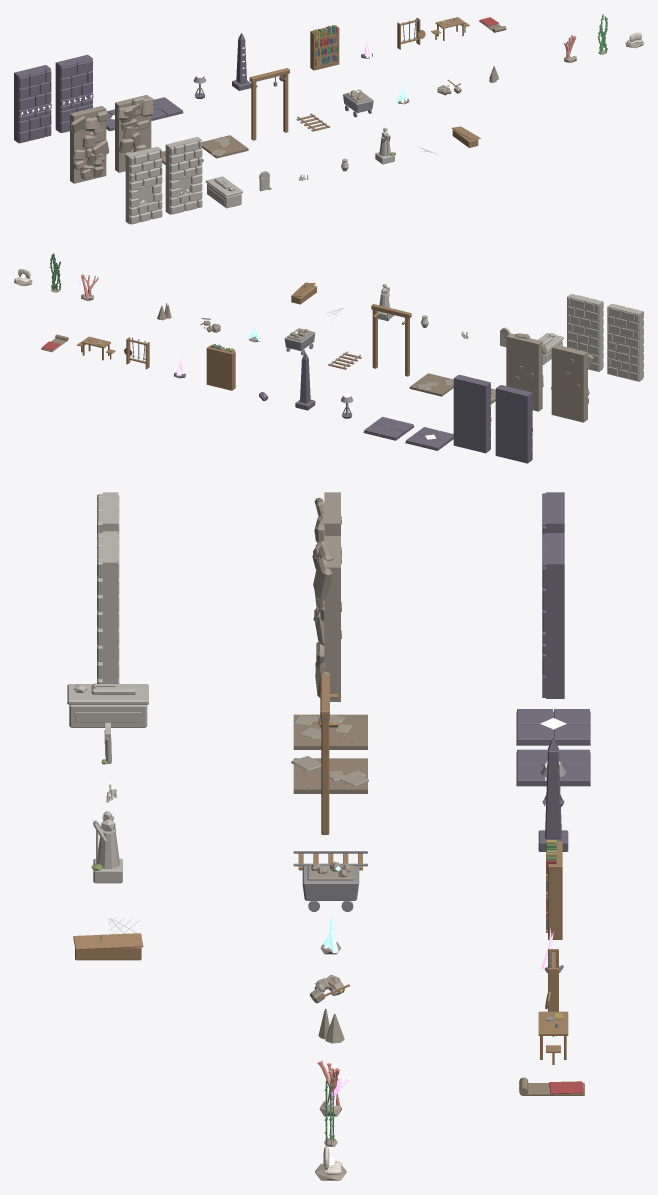
File: themes.glb
The picture shows the model from 3 angles, top to bottom: view 1: azimuth 30°, elevation 25°; view 2: azimuth 150°, elevation 25°; view 3: azimuth 270°, elevation 25°; orthographic projection. The views are drawn at different scales.
Parts seen in each view (by area): view 1: sanctum_wall_0, crypt_wall_1, crypt_wall_0, mine_wall_0, sanctum_wall_1, mine_wall_1, bookshelf, mine_support, sarcophagus, mine_floor_1, obelisk, minecart (+5 smaller); view 2: sanctum_wall_1, sanctum_wall_0, mine_wall_0, crypt_wall_0, mine_wall_1, crypt_wall_1, bookshelf, mine_support, sanctum_floor_1, sanctum_floor_0, mine_floor_1, obelisk (+6 smaller); view 3: mine_wall_1, sanctum_wall_1, sarcophagus, crypt_wall_1, sanctum_floor_0, mine_floor_1, mine_floor_0, minecart, sanctum_floor_1, coffin, obelisk, bookshelf (+6 smaller).
Part boxes in pixels (x1,y1,x2,y2): sanctum_wall_0: (14,65,51,143); crypt_wall_1: (165,136,202,214); crypt_wall_0: (125,146,162,224); mine_wall_0: (70,106,109,183); sanctum_wall_1: (55,54,93,132); mine_wall_1: (115,95,153,172); bookshelf: (310,25,339,70); mine_support: (249,68,289,140); sarcophagus: (205,176,242,208); mine_floor_1: (202,135,248,158); obelisk: (232,33,251,90); minecart: (343,89,373,117); sanctum_wall_1: (453,375,491,453); sanctum_wall_0: (495,385,532,463); mine_wall_0: (551,344,593,422); crypt_wall_0: (607,303,643,381); mine_wall_1: (506,333,546,411); crypt_wall_1: (567,294,603,371); bookshelf: (206,344,235,390); mine_support: (371,304,411,376); sanctum_floor_1: (363,416,414,440); sanctum_floor_0: (405,427,453,450); mine_floor_1: (409,373,453,396); obelisk: (295,352,315,410); mine_wall_1: (312,536,341,701); sanctum_wall_1: (541,533,564,698); sarcophagus: (67,683,148,727); crypt_wall_1: (97,531,119,683); sanctum_floor_0: (516,709,590,745); mine_floor_1: (291,756,368,793); mine_floor_0: (293,714,367,749); minecart: (302,861,359,911); sanctum_floor_1: (516,749,590,786); coffin: (73,933,143,960); obelisk: (538,737,568,851); bookshelf: (546,840,562,939).
Size of the model in its own units: 35.8 by 4.65 by 14.1.
